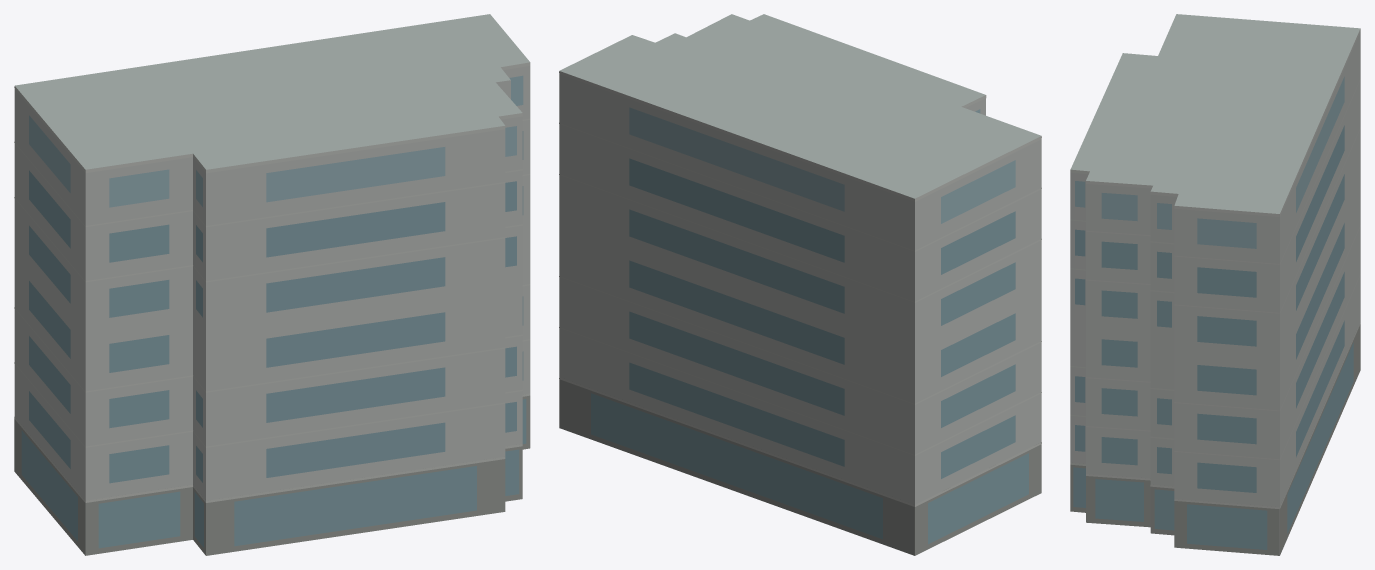
The model's file is survey-upis-33001816.glb.
3 renders of one model, left to right at view 1: azimuth 30°, elevation 25°; view 2: azimuth 150°, elevation 25°; view 3: azimuth 270°, elevation 25°, orthographic. The views are drawn at different scales.
Visible parts, largest first — view 1: survey-upis-33001816.tmp; view 2: survey-upis-33001816.tmp; view 3: survey-upis-33001816.tmp.
Part boxes in pixels (box(x1,y1,x2,y2)): survey-upis-33001816.tmp: box(14, 14, 530, 555); survey-upis-33001816.tmp: box(559, 14, 1041, 555); survey-upis-33001816.tmp: box(1070, 14, 1360, 555).
Bounding box in the file's own units: 33.79 × 26.9 × 20.72.
